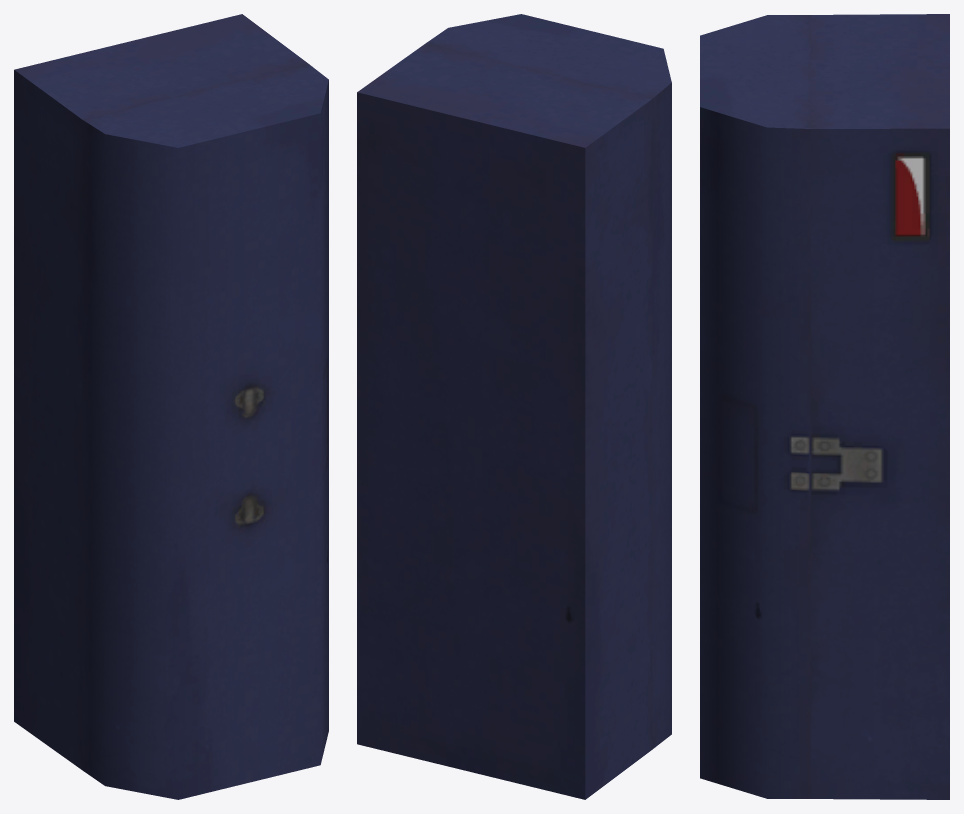
Rendered from p6_industrial_toolbox_static_LOD1.obj.
3 views of the same model, side by side, from view 1: azimuth 30°, elevation 25°; view 2: azimuth 150°, elevation 25°; view 3: azimuth 270°, elevation 25° (orthographic). The views are drawn at different scales.
Parts seen in each view (by area): view 1: mtl_p_test_karma_toolbox; view 2: mtl_p_test_karma_toolbox; view 3: mtl_p_test_karma_toolbox.
Part boxes in pixels (x1,y1,x2,y2): mtl_p_test_karma_toolbox: (14,14,328,799); mtl_p_test_karma_toolbox: (357,14,671,799); mtl_p_test_karma_toolbox: (700,14,949,799).
Size of the model in its own units: 23.5 by 64.14 by 21.63.
